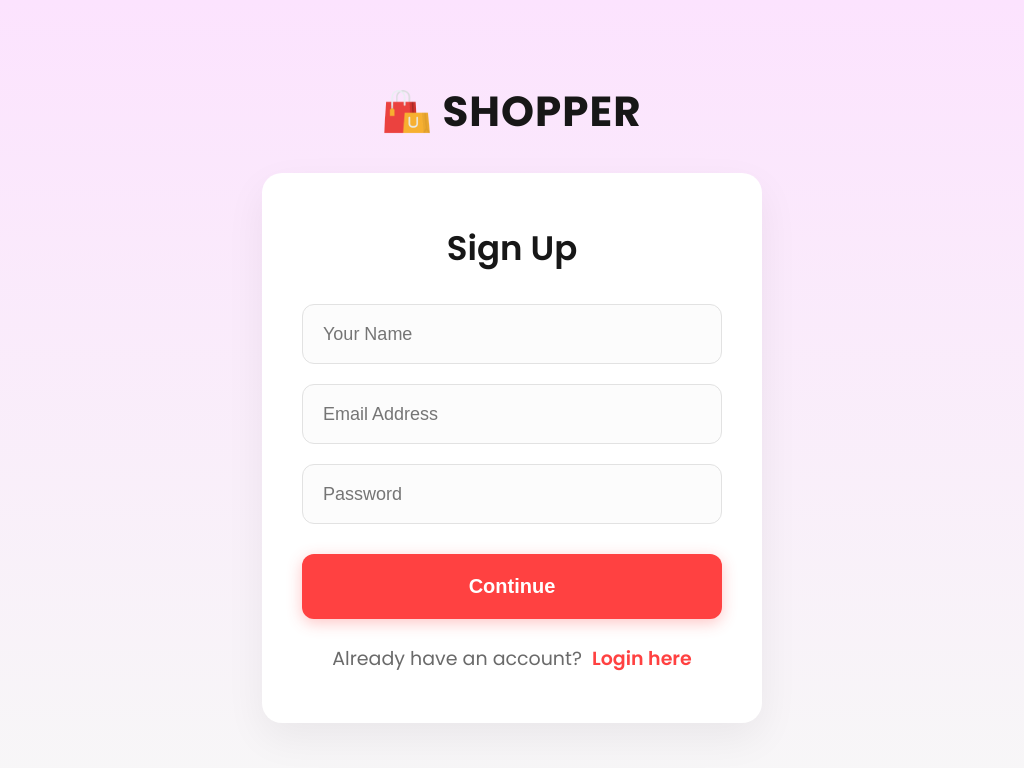
Test: LoginSignup Component › successful signup alerts user and switches to login view
Type "Kiru" into the field with placeholder "Your Name".
click(512, 334); type("Kiru")  # box [302, 304, 722, 364]
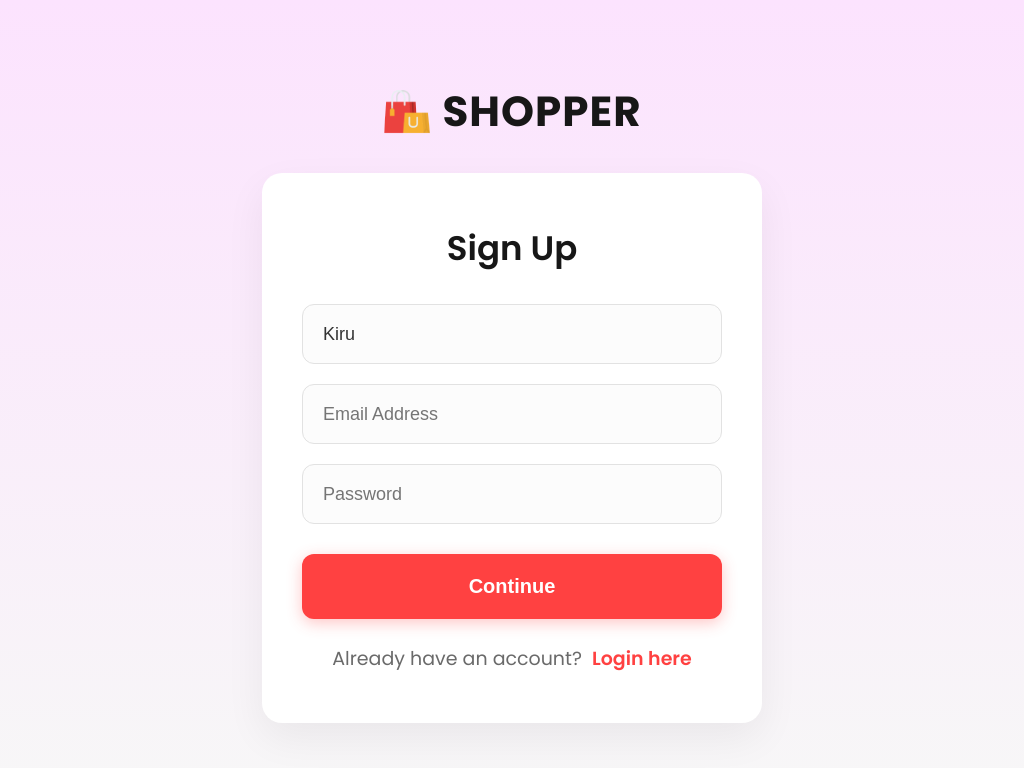
Type "kiru@gmail.com" into the field with placeholder "Email Address".
click(512, 414); type("kiru@gmail.com")  # box [302, 384, 722, 444]
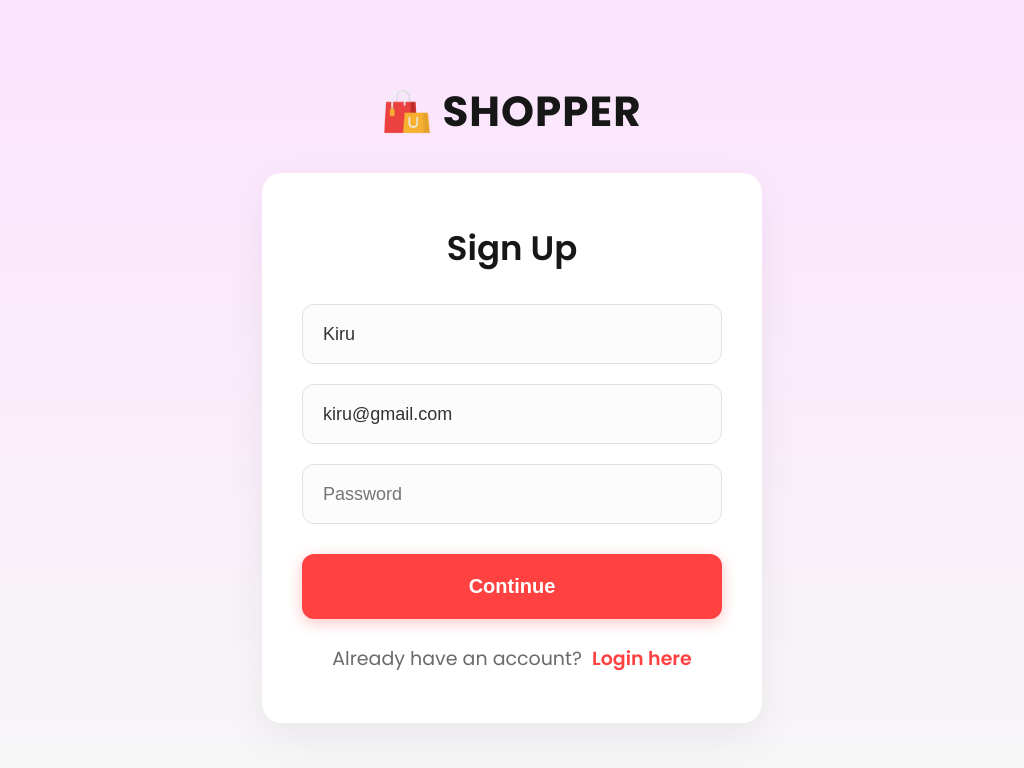
Type "password123" into the password field with placeholder "Password".
click(512, 494); type("password123")  # box [302, 464, 722, 524]
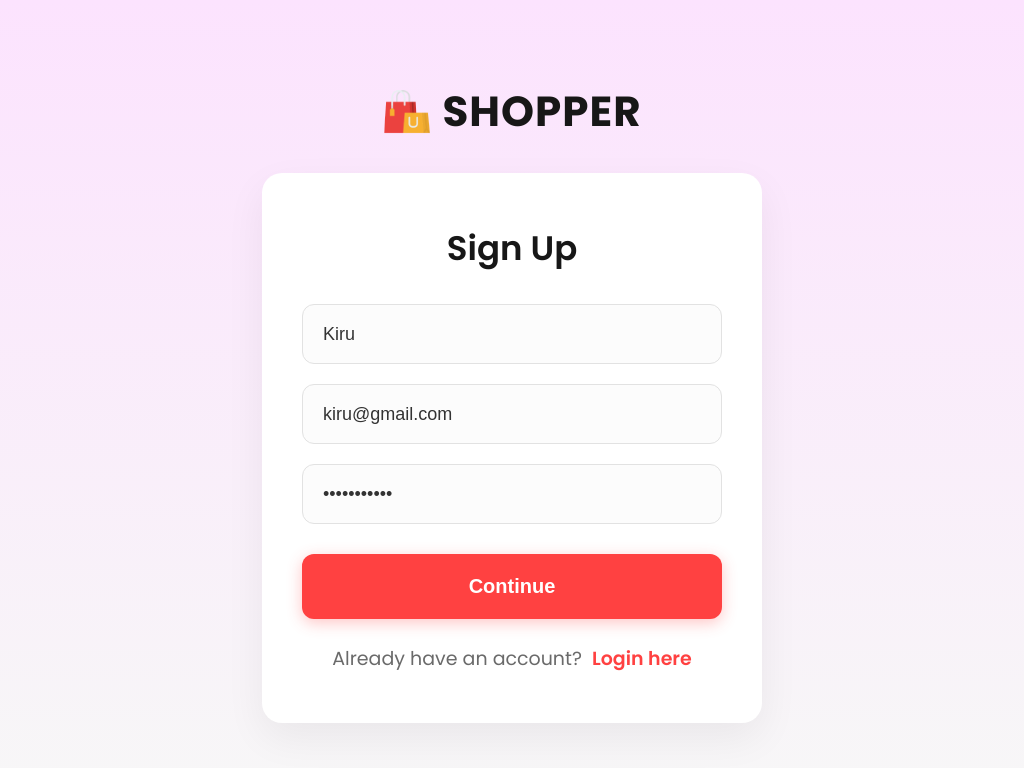
Click the button "Continue".
click(512, 586)  # box [302, 554, 722, 619]
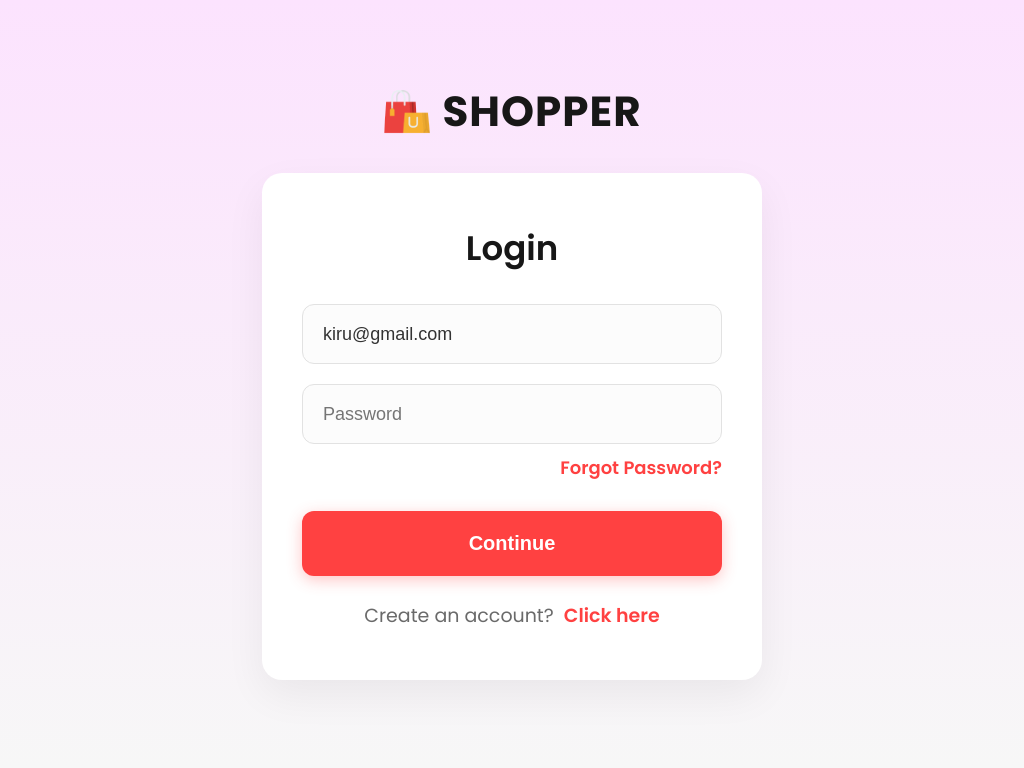
Expected: the heading "Login" is shown, [466, 224, 558, 272]
